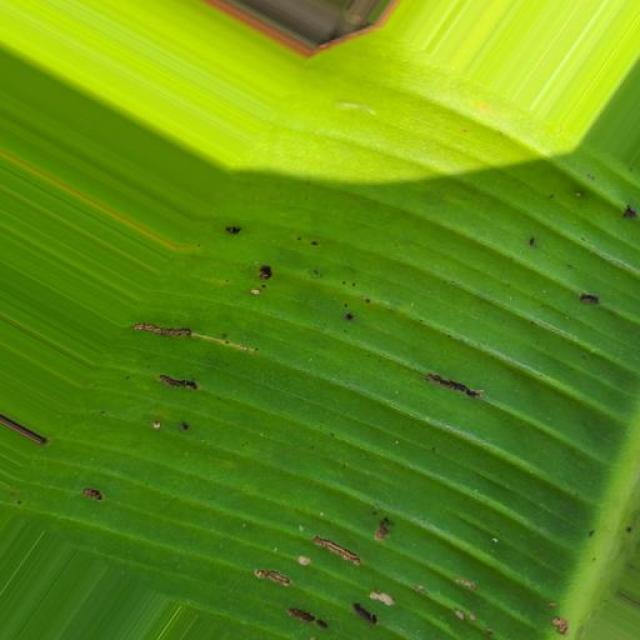Black_rot: (50, 194, 640, 640)
